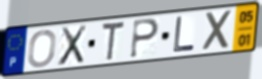L: (171, 15, 196, 55)
O: (26, 29, 58, 69)
P: (128, 17, 161, 60)
T: (100, 19, 126, 63)
X: (56, 23, 89, 68), (202, 8, 235, 53)
